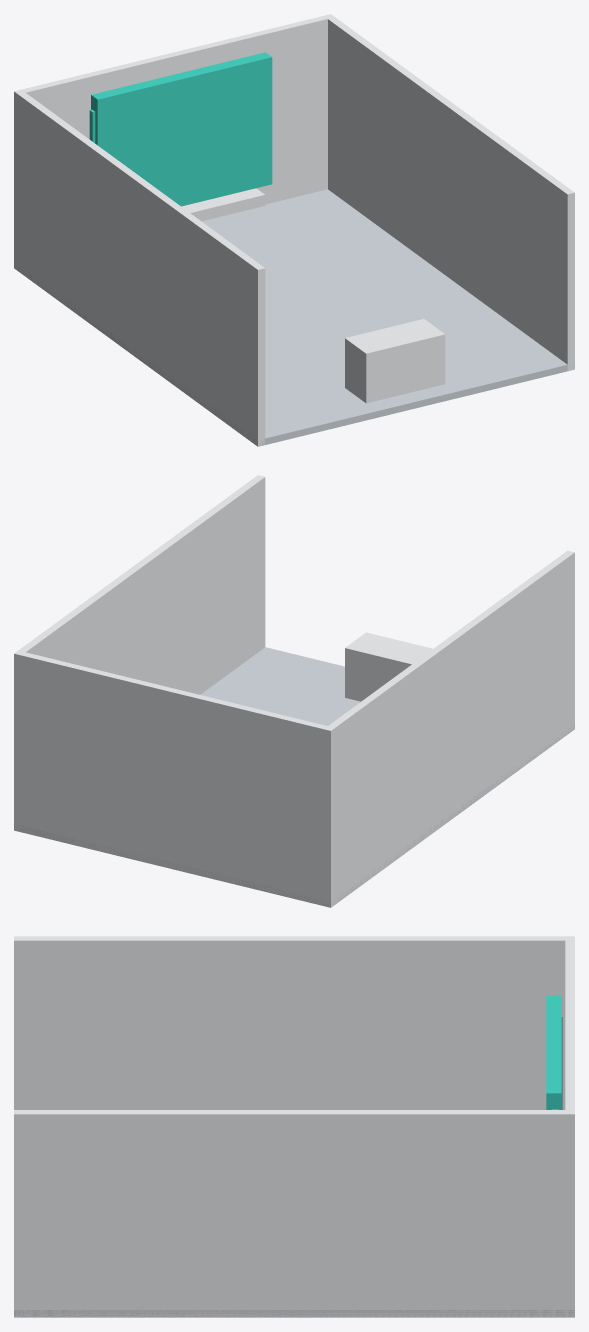
3 renders of one model, top to bottom at view 1: azimuth 30°, elevation 25°; view 2: azimuth 150°, elevation 25°; view 3: azimuth 270°, elevation 25°, orthographic. The views are drawn at different scales.
Visible parts, largest first — view 1: Exhibition Booth Concept; view 2: Exhibition Booth Concept; view 3: Exhibition Booth Concept.
Boxes of the visible parts, <box> form: Exhibition Booth Concept: <box>14,14,574,446</box>; Exhibition Booth Concept: <box>14,475,574,907</box>; Exhibition Booth Concept: <box>14,936,574,1317</box>.
Bounding box in the file's own units: 6 × 3.2 × 8.
